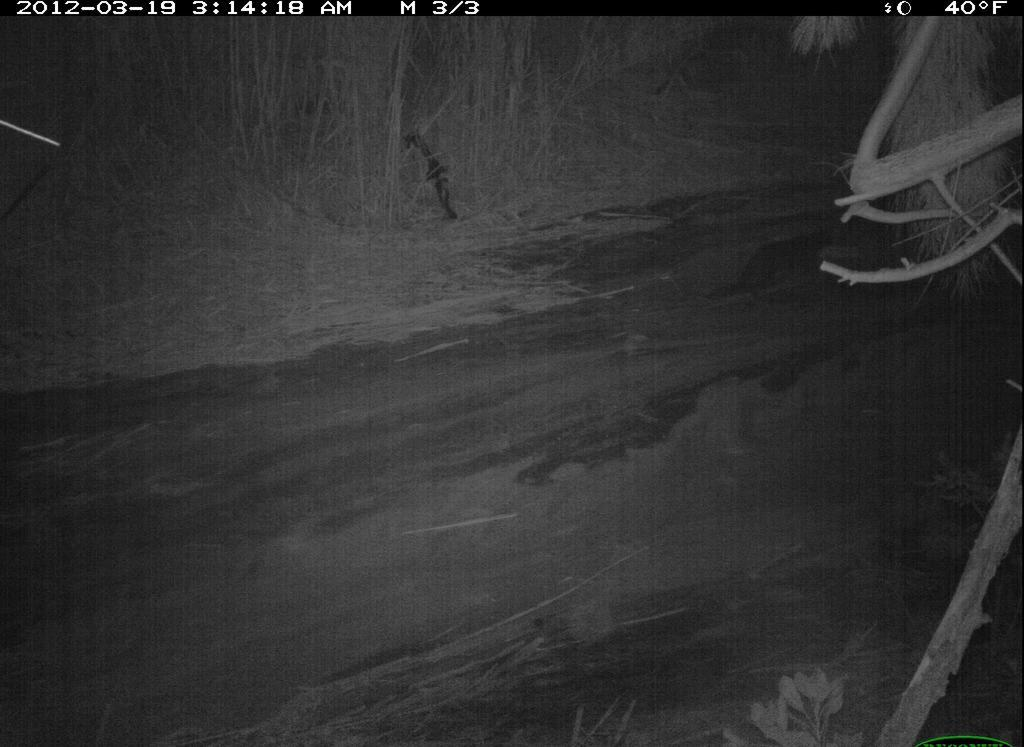cat: (708, 221, 853, 303)
